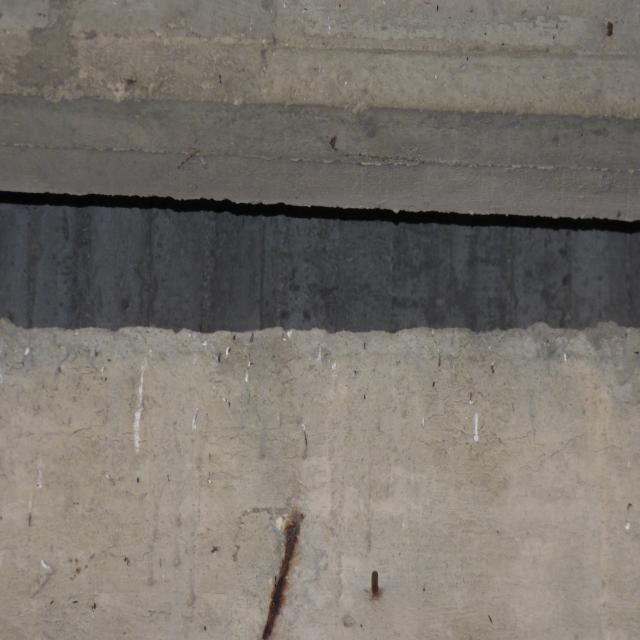corrosion: (259, 507, 331, 640), (368, 563, 384, 600), (603, 21, 618, 41)
